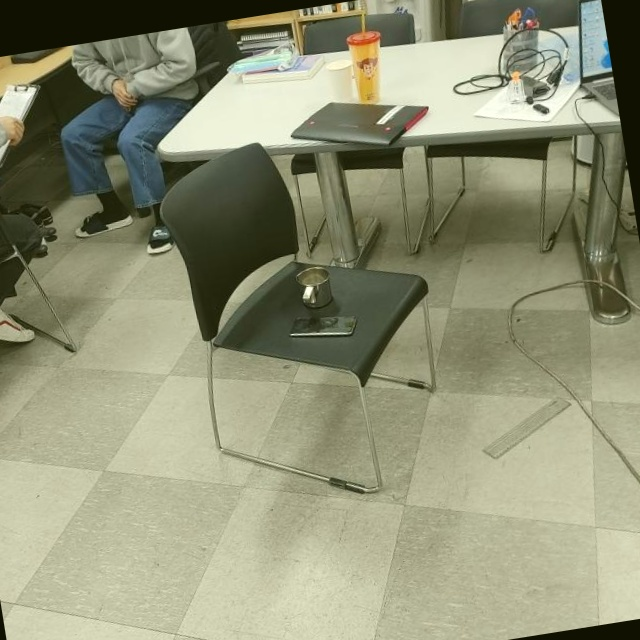cup: (291, 262, 339, 314)
phone: (286, 306, 362, 349)
